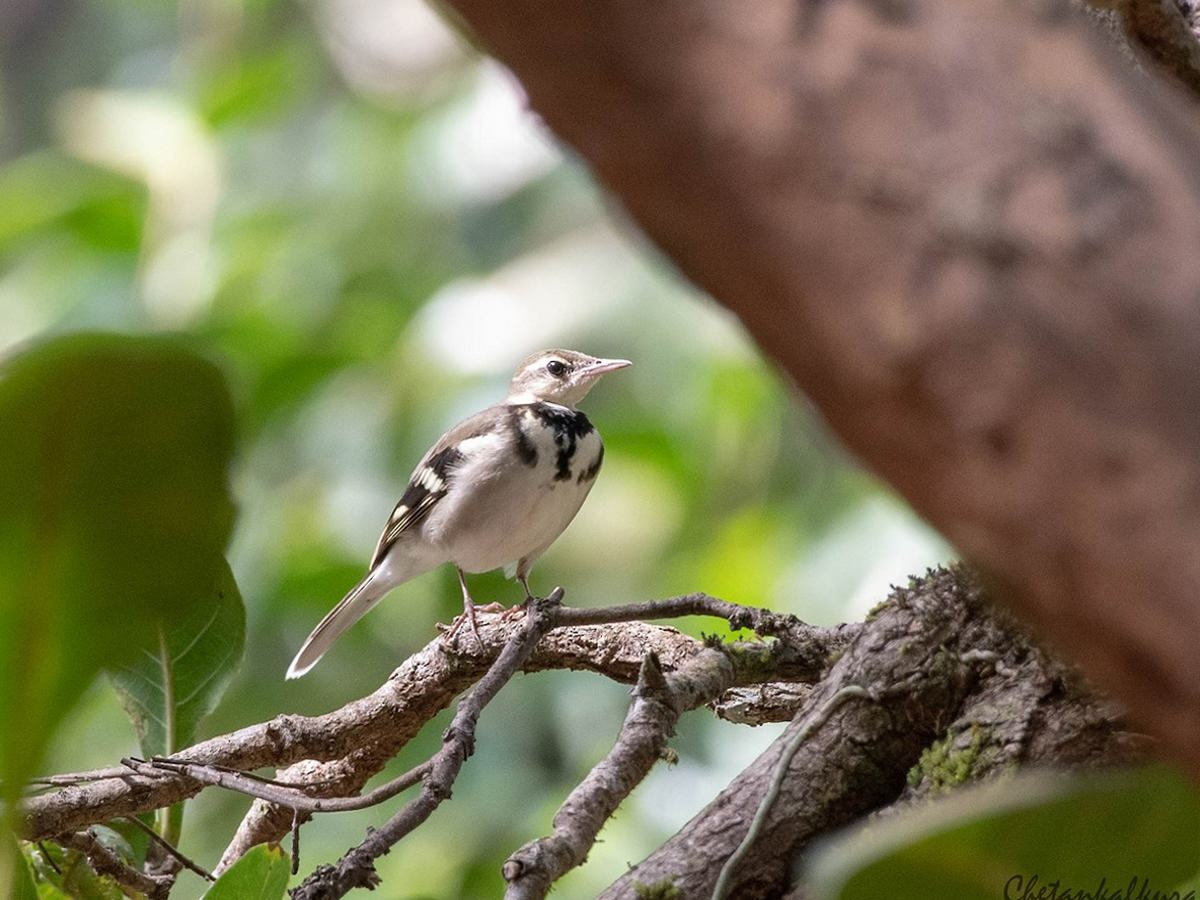wagtail: (318, 338, 656, 668)
